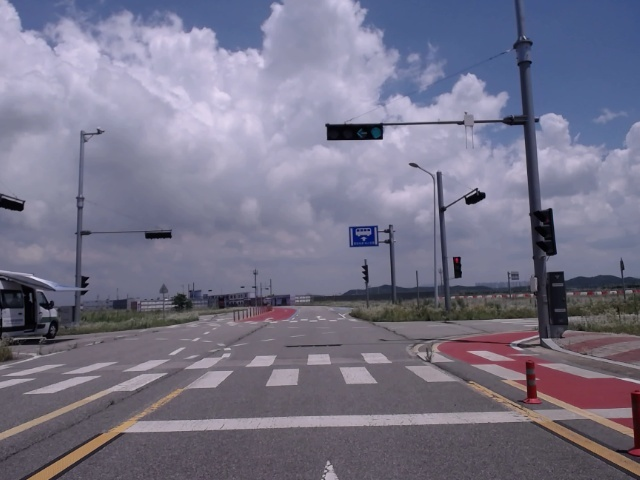all_green_4: (324, 124, 381, 142)
